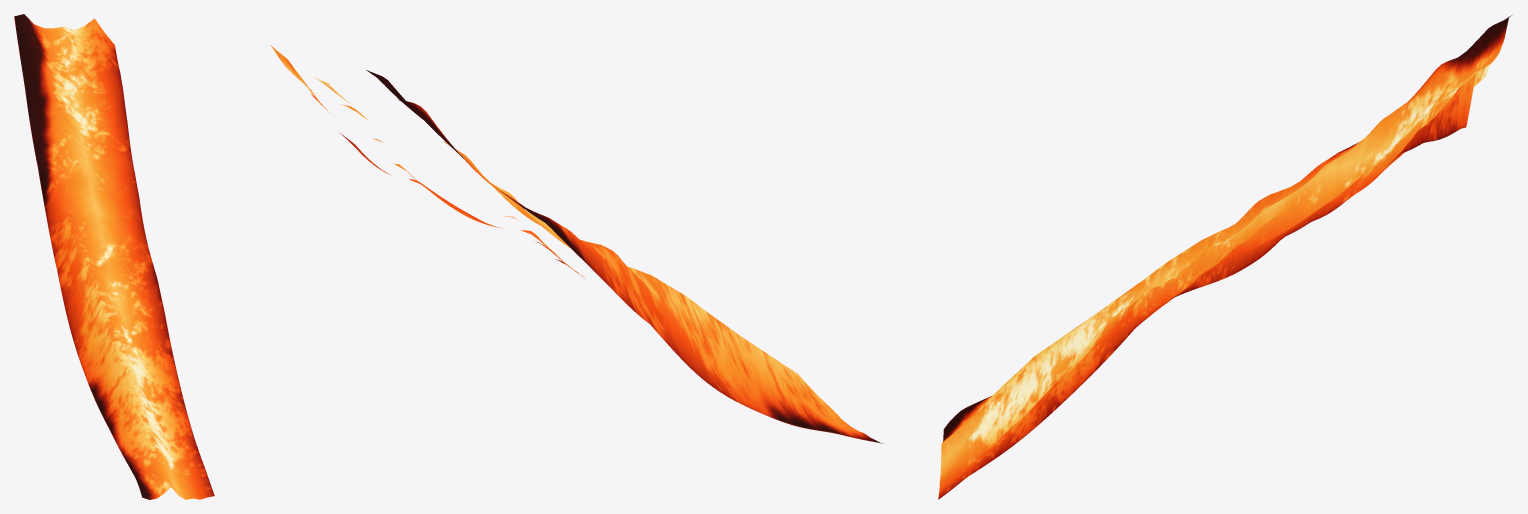
The model's file is flow_2_2.glb.
3 views of the same model, side by side, from view 1: azimuth 30°, elevation 25°; view 2: azimuth 150°, elevation 25°; view 3: azimuth 270°, elevation 25° (orthographic). The views are drawn at different scales.
Bounding box in the file's own units: 3.89 × 8.18 × 8.75.
